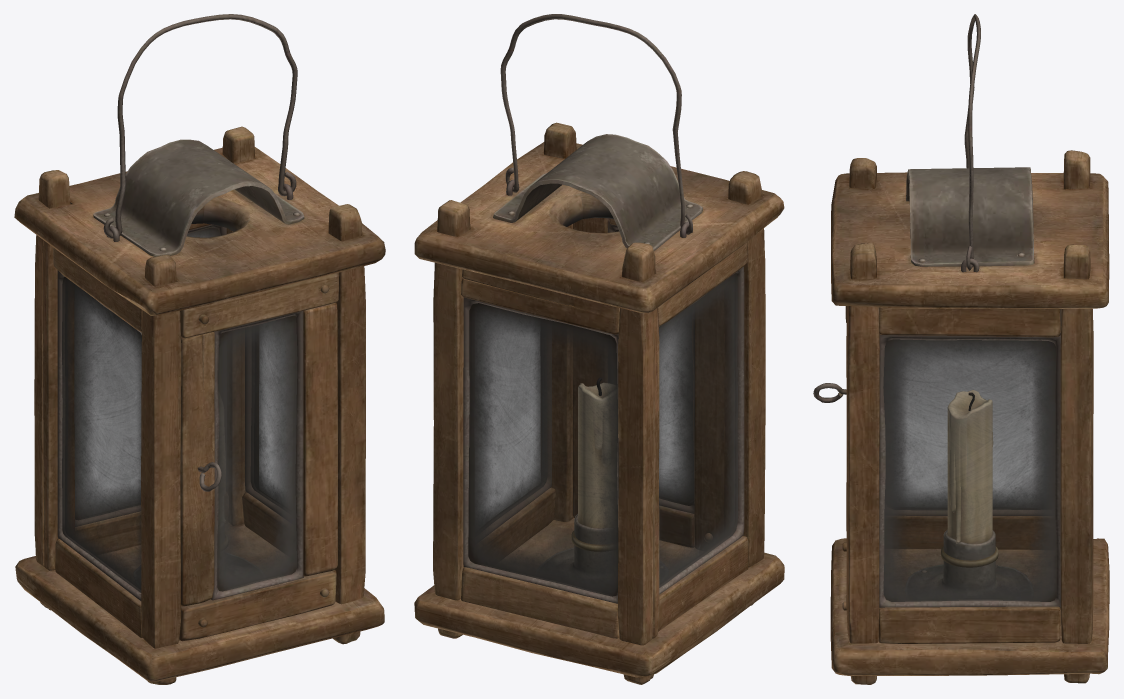
File: wooden-lantern-01.glb
3 views of the same model, side by side, from view 1: azimuth 30°, elevation 25°; view 2: azimuth 150°, elevation 25°; view 3: azimuth 270°, elevation 25° (orthographic).
Parts seen in each view (by area): view 1: wooden_lantern_01; view 2: wooden_lantern_01; view 3: wooden_lantern_01.
Part boxes in pixels (box(x1,y1,x2,y2)): wooden_lantern_01: box(14, 14, 385, 684); wooden_lantern_01: box(414, 14, 784, 684); wooden_lantern_01: box(813, 14, 1109, 684).
Size of the model in its own units: 0.221 by 0.5301 by 0.2347.
2 materials, 2 textured.
